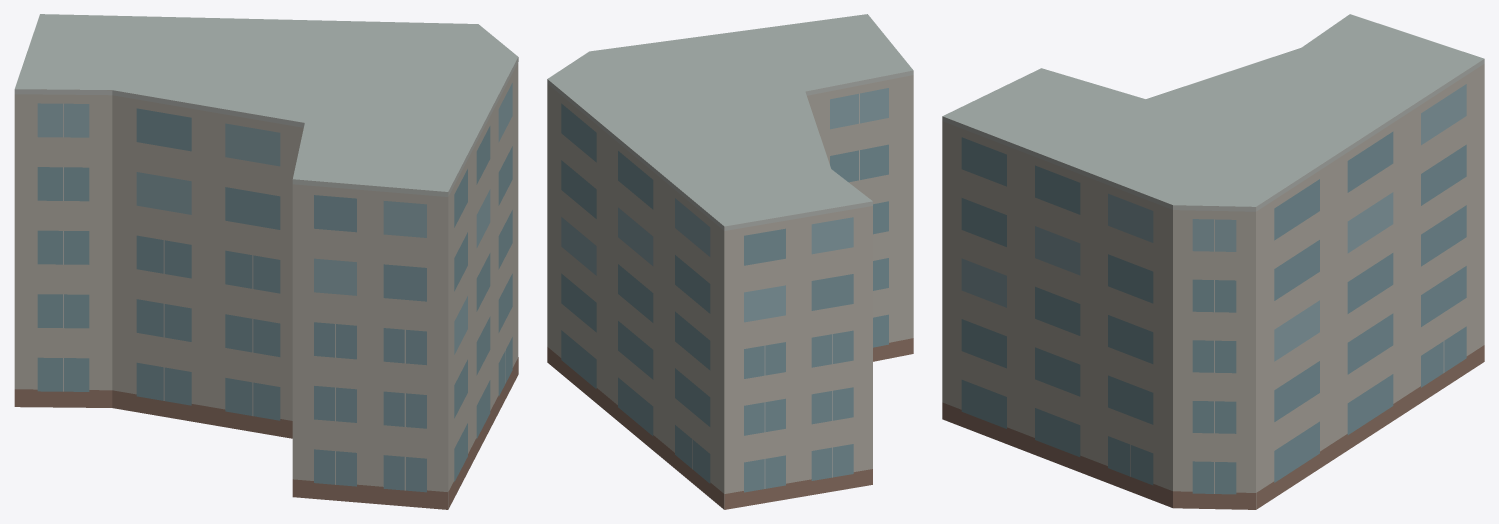
File: survey-upis-32774940.glb
3 renders of one model, left to right at view 1: azimuth 30°, elevation 25°; view 2: azimuth 150°, elevation 25°; view 3: azimuth 270°, elevation 25°, orthographic. The views are drawn at different scales.
Visible parts, largest first — view 1: survey-upis-32774940.tmp; view 2: survey-upis-32774940.tmp; view 3: survey-upis-32774940.tmp.
Part boxes in pixels (x1,y1,x2,y2): survey-upis-32774940.tmp: [14, 14, 518, 509]; survey-upis-32774940.tmp: [547, 14, 913, 509]; survey-upis-32774940.tmp: [942, 14, 1484, 509].
Size of the model in its own units: 20.9 by 15.3 by 24.82.
